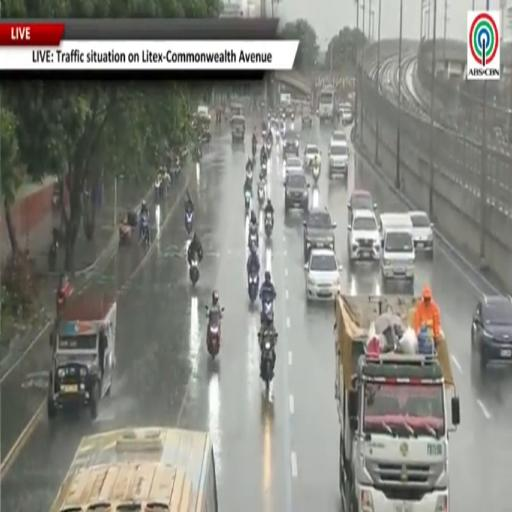bus: (51, 428, 218, 511), (318, 87, 335, 122)
car: (471, 295, 511, 370), (304, 248, 342, 302), (303, 207, 336, 261), (348, 210, 381, 264), (409, 211, 434, 258), (285, 170, 309, 212), (348, 189, 377, 223), (329, 142, 348, 178), (283, 131, 299, 156), (304, 144, 320, 168), (285, 157, 303, 175), (339, 103, 353, 125), (330, 131, 347, 146), (302, 105, 312, 126), (197, 105, 210, 118), (285, 105, 294, 120)
jeepney: (47, 293, 116, 419), (197, 106, 211, 141), (231, 116, 245, 142), (230, 103, 243, 120)
motorcycle: (261, 332, 278, 392), (206, 307, 224, 358), (56, 280, 74, 316), (48, 237, 58, 271), (248, 272, 258, 303), (261, 301, 273, 326), (140, 217, 149, 247), (189, 259, 199, 285), (154, 177, 163, 203), (185, 211, 194, 234), (265, 213, 273, 237), (248, 230, 258, 248), (258, 183, 265, 206), (245, 190, 251, 214), (313, 165, 320, 183), (261, 162, 267, 178), (252, 144, 257, 161), (246, 169, 253, 181), (280, 126, 285, 138), (262, 130, 266, 139)
truck: (334, 294, 459, 511), (318, 86, 336, 122)
